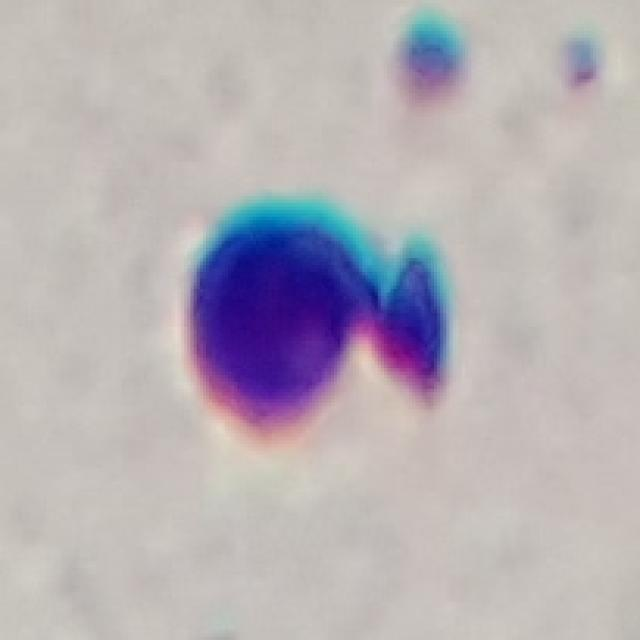non-sperm: (183, 209, 452, 446)
